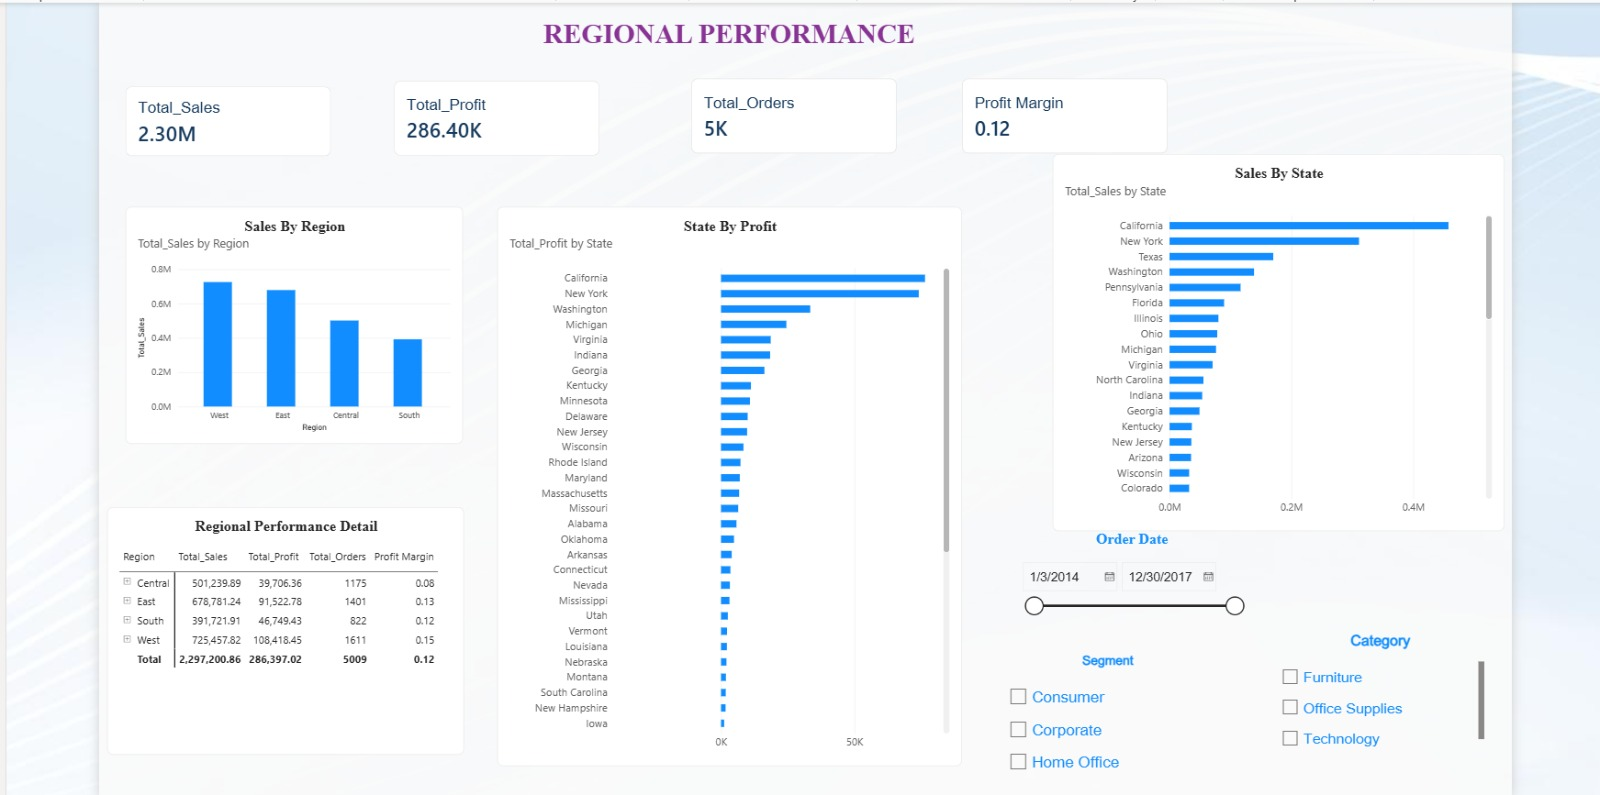

Layout of this report page (visuals, bound fields, positions):
{"tool":"powerbi","page":{"name":"Regional Performance","canvas":[1920,1080],"ordinal":2},"visuals":[{"type":"cardVisual","fields":{"Data":["Sample - Superstore.Total_Sales"]},"box":[36.6,113.4,279.1,95.9],"z":0},{"type":"cardVisual","fields":{"Data":["Sample - Superstore.Total_Profit"]},"box":[401.2,106.4,279.1,102.9],"z":1000},{"type":"cardVisual","fields":{"Data":["Sample - Superstore.Total_Orders"]},"box":[804.1,102.9,279.1,102.9],"z":2000},{"type":"cardVisual","fields":{"Data":["Sample - Superstore.Profit Margin"]},"box":[1172.1,102.9,279.1,102.9],"z":3000},{"type":"clusteredColumnChart","title":"Sales By Region","fields":{"Category":["Sample - Superstore.Region"],"Y":["Sample - Superstore.Total_Sales"]},"box":[36.6,277.3,458.7,322.7],"z":4000},{"type":"clusteredBarChart","title":"State By Profit","fields":{"Category":["Sample - Superstore.State"],"Y":["Sample - Superstore.Total_Profit"]},"box":[540.7,277.3,631.4,760.5],"z":5000},{"type":"clusteredBarChart","title":"Sales By State","fields":{"Category":["Sample - Superstore.State"],"Y":["Sample - Superstore.Total_Sales"]},"box":[1295.9,205.8,614,512.8],"z":6000},{"type":"pivotTable","title":"Regional Performance Detail","fields":{"Rows":["Sample - Superstore.Region","Sample - Superstore.State"],"Values":["Sample - Superstore.Total_Sales","Sample - Superstore.Total_Profit","Sample - Superstore.Total_Orders","Sample - Superstore.Profit Margin"]},"box":[10.5,685.5,484.9,336.6],"z":7000},{"type":"slicer","title":"Order Date","fields":{"Values":["Sample - Superstore.Order Date"]},"box":[1247.1,718.6,312.2,150],"z":8000},{"type":"slicer","title":"Segment","fields":{"Values":["Sample - Superstore.Segment"]},"box":[1229.7,882.6,280.8,172.7],"z":10000},{"type":"slicer","title":"Category","fields":{"Values":["Sample - Superstore.Category"]},"box":[1599.4,852.9,282.6,160.5],"z":11000},{"type":"textbox","box":[1741,56,169,150],"z":12000},{"type":"textbox","box":[401.2,20.9,910.5,66.3],"z":13000}]}

Visuals, with their boxes on the page's 1920x1080 design canvas (x1, y1, x2, y2). These are canvas units, not pixel positions in the 1600x795 screenshot, which may show the page scaled, cropped or inside an application window:
cardVisual - Sample - Superstore.Total_Sales: <region>37, 113, 316, 209</region>
cardVisual - Sample - Superstore.Total_Profit: <region>401, 106, 680, 209</region>
cardVisual - Sample - Superstore.Total_Orders: <region>804, 103, 1083, 206</region>
cardVisual - Sample - Superstore.Profit Margin: <region>1172, 103, 1451, 206</region>
"Sales By Region" clusteredColumnChart: <region>37, 277, 495, 600</region>
"State By Profit" clusteredBarChart: <region>541, 277, 1172, 1038</region>
"Sales By State" clusteredBarChart: <region>1296, 206, 1910, 719</region>
"Regional Performance Detail" pivotTable: <region>10, 686, 495, 1022</region>
"Order Date" slicer: <region>1247, 719, 1559, 869</region>
"Segment" slicer: <region>1230, 883, 1510, 1055</region>
"Category" slicer: <region>1599, 853, 1882, 1013</region>
textbox: <region>1741, 56, 1910, 206</region>
textbox: <region>401, 21, 1312, 87</region>
